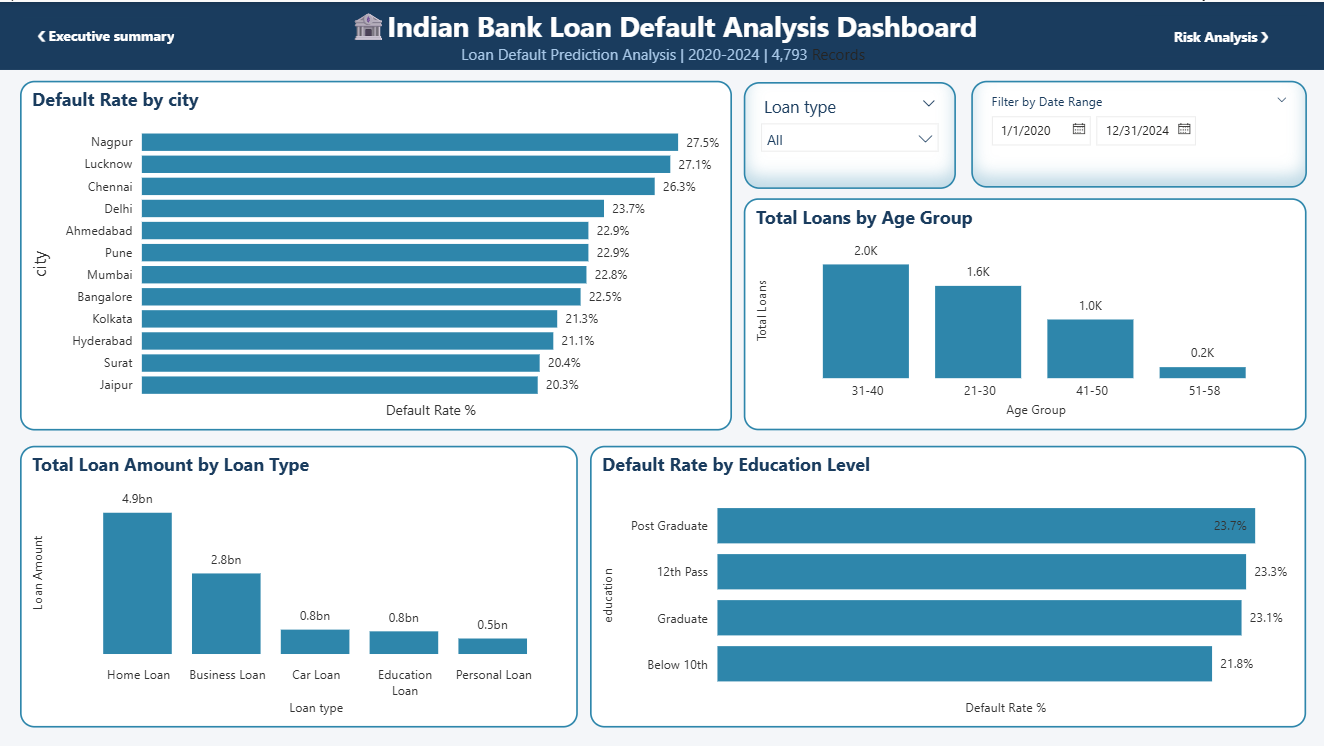

Layout of this report page (visuals, bound fields, positions):
{"tool":"powerbi","page":{"name":"Customer Analysis","canvas":[1280,720],"ordinal":1},"visuals":[{"type":"slicer","fields":{"Values":["loan_powerbi.loan_type"]},"box":[717.7,76.8,204.5,102.9],"z":0},{"type":"slicer","fields":{"Values":["loan_powerbi.loan_application_date"]},"box":[937.2,75.5,323.8,102.9],"z":1000},{"type":"clusteredBarChart","title":"Default Rate by city","fields":{"Category":["loan_powerbi.city"],"Y":["_Measures (2).Default Rate %"]},"box":[19.2,75.5,687.5,337.6],"z":2000},{"type":"clusteredColumnChart","fields":{"Category":["loan_powerbi.Age Group"],"Y":["_Measures (2).Total Loans"]},"box":[717.7,189.4,543.4,223.7],"z":3000},{"type":"clusteredColumnChart","title":"Total Loan Amount by Loan Type","fields":{"Category":["loan_powerbi.loan_type"],"Y":["Sum(loan_powerbi.loan_amount)"]},"box":[19,428,538,272],"z":4000},{"type":"clusteredBarChart","title":"Default Rate by Education Level","fields":{"Category":["loan_powerbi.education"],"Y":["_Measures (2).Default Rate %"]},"box":[569.5,428.1,691.6,271.7],"z":5000},{"type":"textbox","box":[0,0,1280.3,65.9],"z":6000},{"type":"actionButton","box":[19.2,12.3,166,39.8],"z":7000},{"type":"actionButton","box":[1095,13.7,166,39.8],"z":8000}]}

Visuals, with their boxes in screenshot pixels (x1, y1, x2, y2), scaled from the page's 1280x720 canvas onto the 1324x746 screenshot:
slicer - loan_powerbi.loan_type: (x1=742, y1=80, x2=954, y2=186)
slicer - loan_powerbi.loan_application_date: (x1=969, y1=78, x2=1304, y2=185)
"Default Rate by city" clusteredBarChart: (x1=20, y1=78, x2=731, y2=428)
clusteredColumnChart - loan_powerbi.Age Group x _Measures (2).Total Loans: (x1=742, y1=196, x2=1304, y2=428)
"Total Loan Amount by Loan Type" clusteredColumnChart: (x1=20, y1=443, x2=576, y2=725)
"Default Rate by Education Level" clusteredBarChart: (x1=589, y1=444, x2=1304, y2=725)
textbox: (x1=0, y1=0, x2=1323, y2=68)
actionButton: (x1=20, y1=13, x2=192, y2=54)
actionButton: (x1=1133, y1=14, x2=1304, y2=55)
